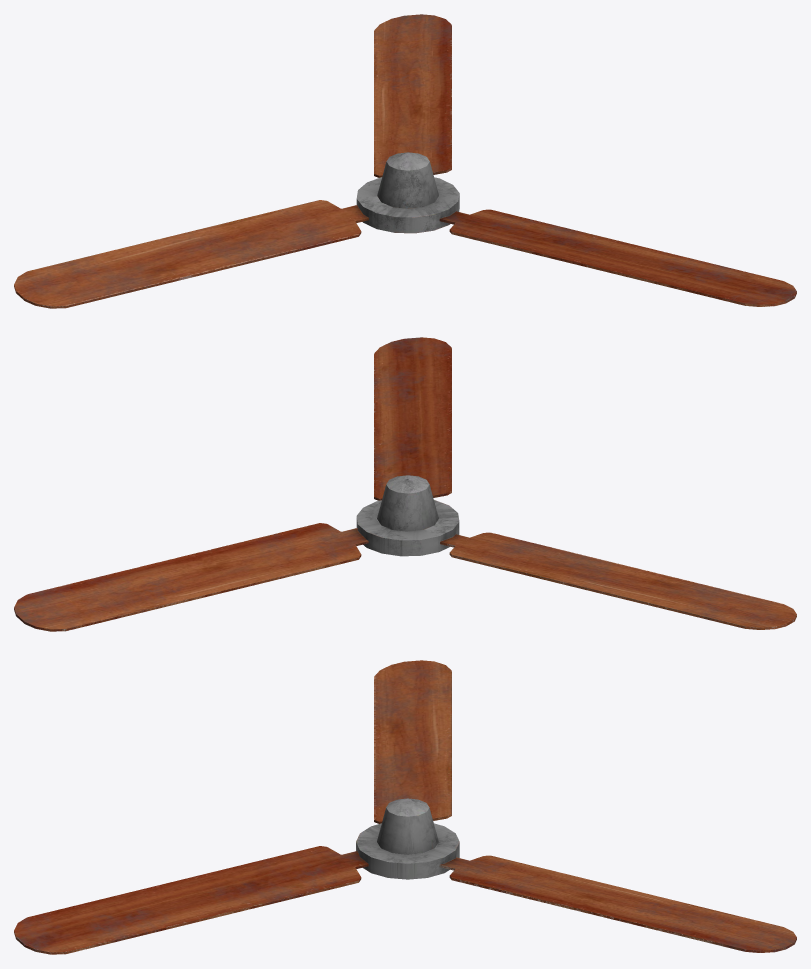
Rendered from SM_Fan_Blades_01.glb.
3 renders of one model, top to bottom at view 1: azimuth 30°, elevation 25°; view 2: azimuth 150°, elevation 25°; view 3: azimuth 270°, elevation 25°, orthographic.
Parts seen in each view (by area): view 1: SM_Fan_Blades_01; view 2: SM_Fan_Blades_01; view 3: SM_Fan_Blades_01.
Boxes of the visible parts, box(x1,y1,x2,y2) form: SM_Fan_Blades_01: box(14, 14, 796, 308); SM_Fan_Blades_01: box(14, 337, 796, 631); SM_Fan_Blades_01: box(14, 660, 796, 954).
Bounding box in the file's own units: 1.53 × 0.1603 × 1.73.
1 material, 1 textured.
